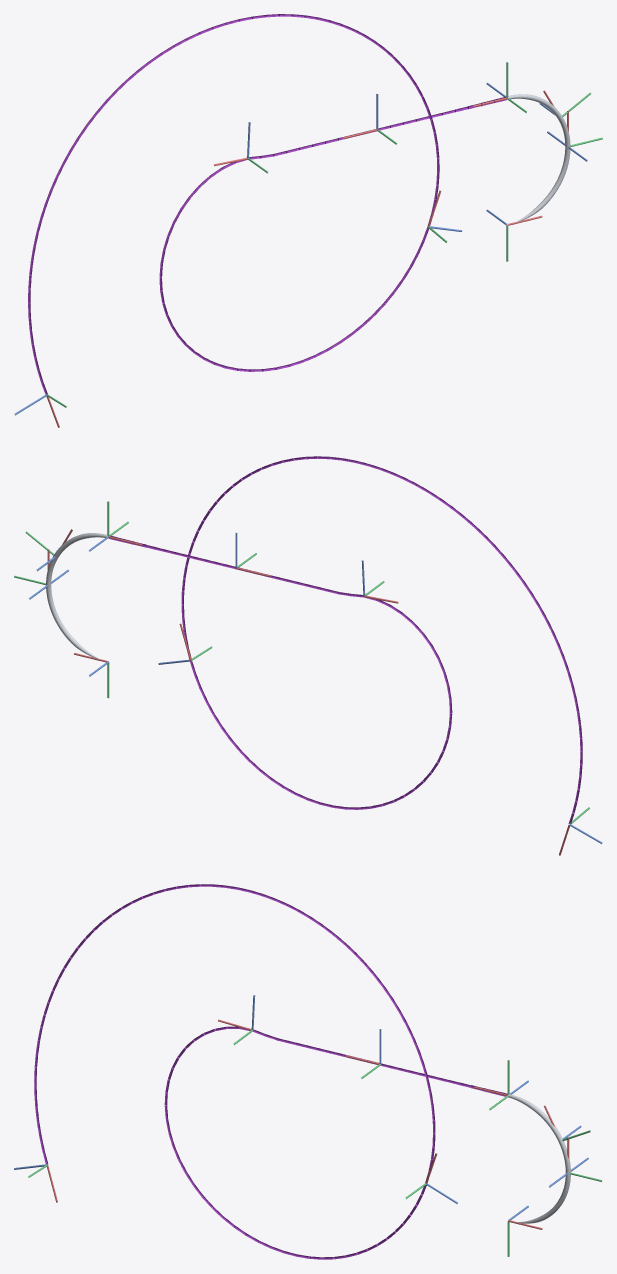
Rendered from dranmar_needle_thread_frame_debug.glb.
3 views of the same model, one above another, from view 1: azimuth 30°, elevation 25°; view 2: azimuth 150°, elevation 25°; view 3: azimuth 330°, elevation 25° (orthographic).
Parts seen in each view (by area): view 1: Needle; view 2: Needle; view 3: Needle.
Boxes of the visible parts, x1=… form: Needle: x1=508, y1=94, x2=570, y2=222; Needle: x1=46, y1=533, x2=107, y2=659; Needle: x1=508, y1=1094, x2=570, y2=1223.
Size of the model in its own units: 0.0684 by 0.0396 by 0.00871.
